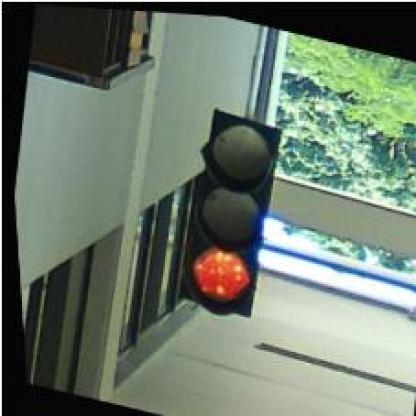red: (164, 98, 294, 320)
